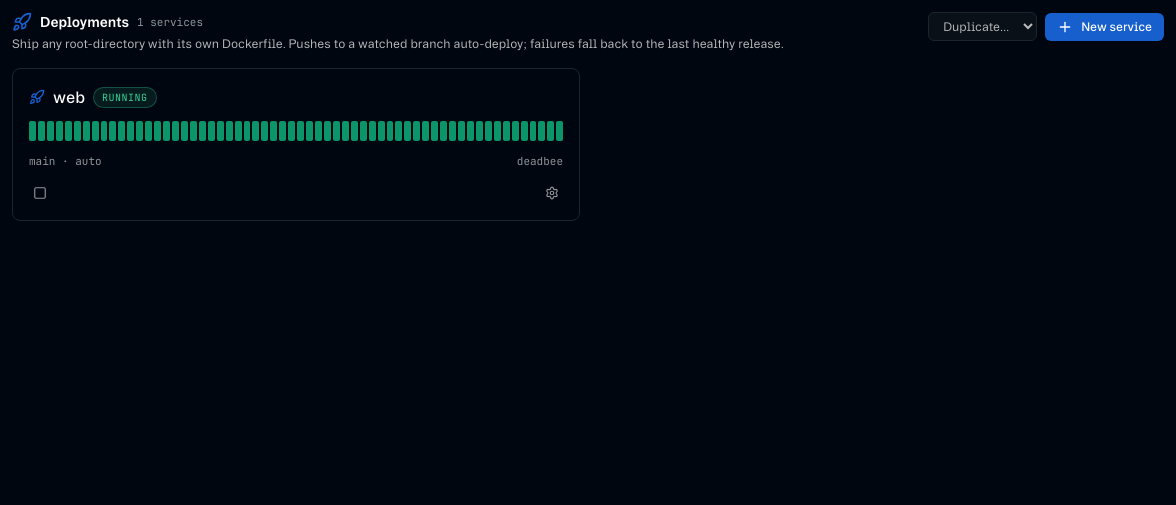
Test: DeploymentsPage › env values are masked until explicitly revealed
Click the element with test id "service-card-web". click: [296, 144]
box: [12,68,580,220]
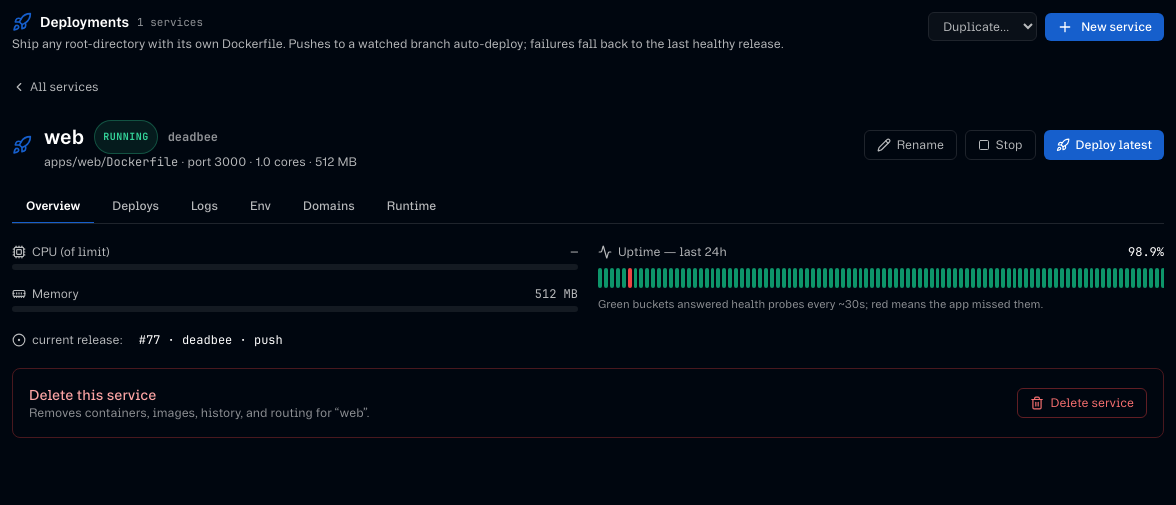
Click the button "env". click: [260, 207]
box: [236,190,285,224]
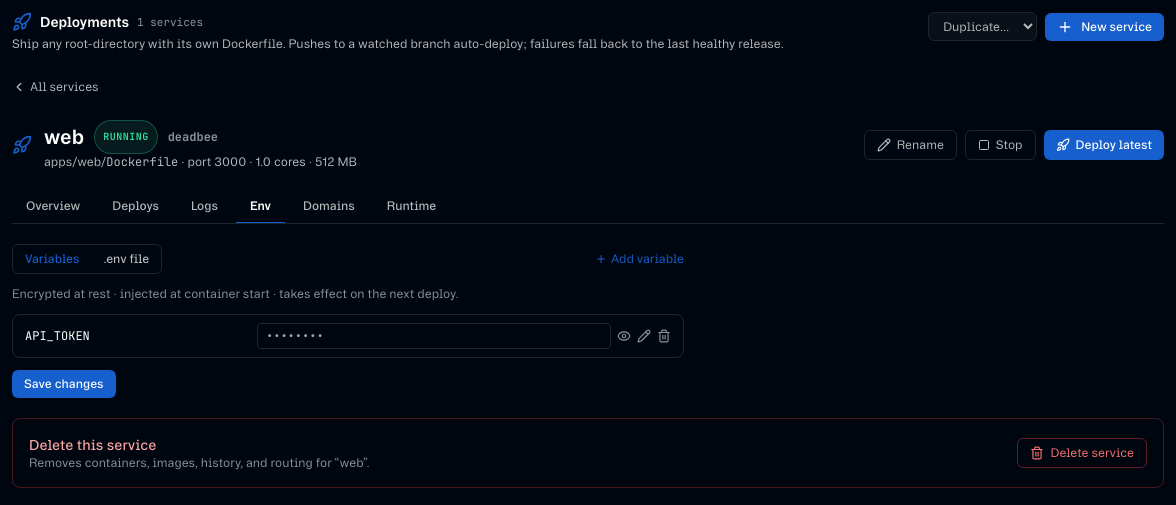
Click the button titled "View value". click: [624, 336]
box: [617,329,631,343]
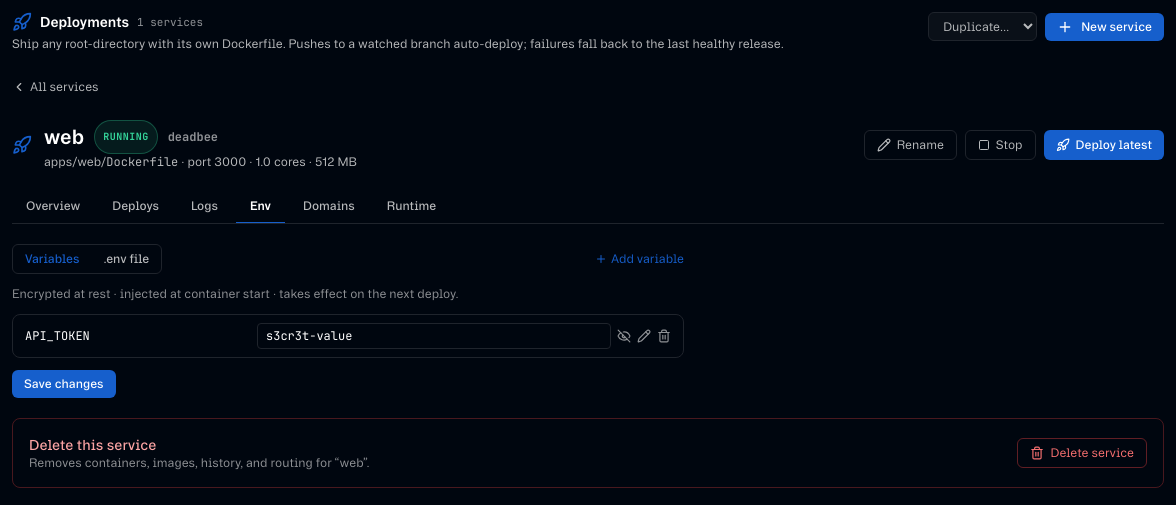
Note: Hide re-masks without entering edit mode
Click the button titled "Hide". click: [624, 336]
box: [617,329,631,343]
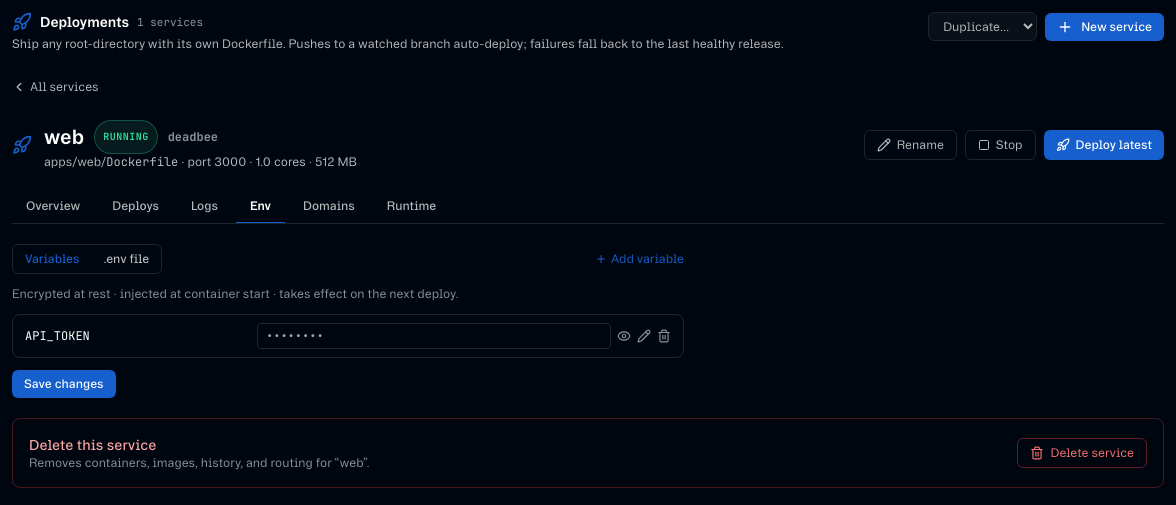
Note: Edit enters inline editor with the decrypted value
Click the button titled "Edit value". click: [644, 336]
box: [637,329,651,343]
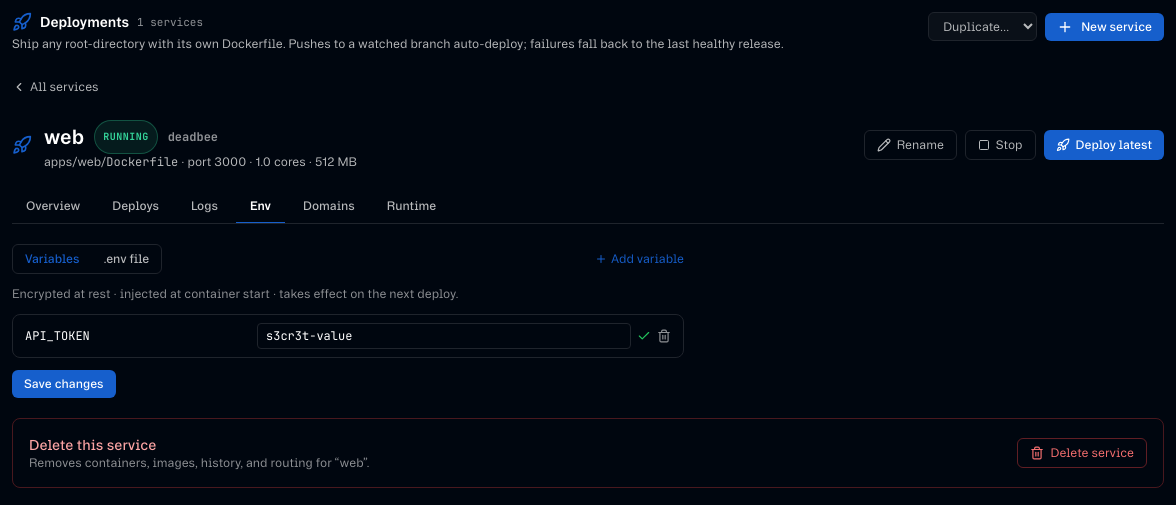
Now the field showing "s3cr3t-value" is shown, box [257,323,631,349]
Note: Closing the editor re-masks the row
Click the button titled "Done". click: [644, 336]
box: [637,329,651,343]
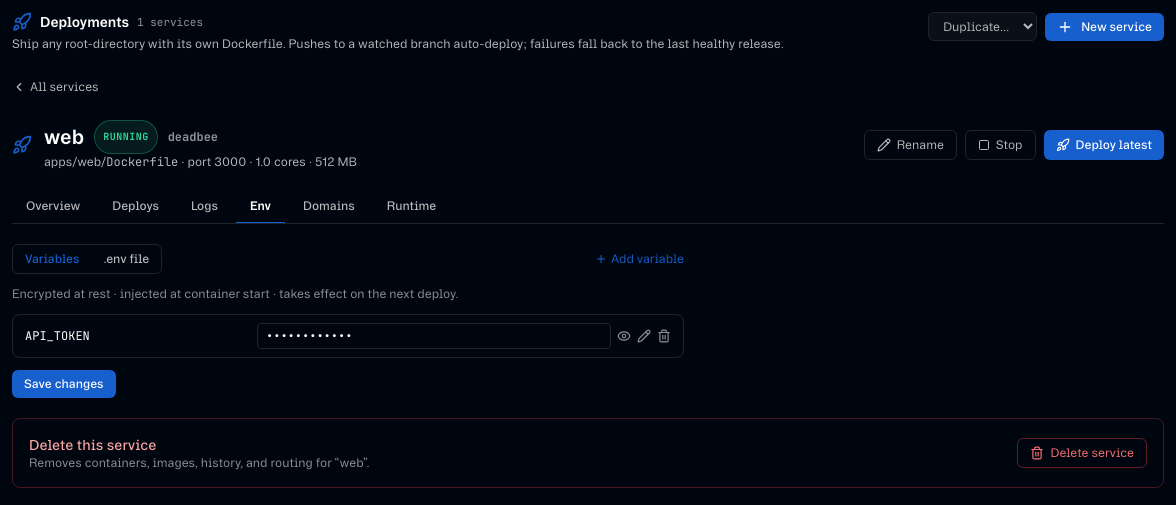
Now the password field with placeholder "••••••••" hides its text, box [257,323,611,349]
